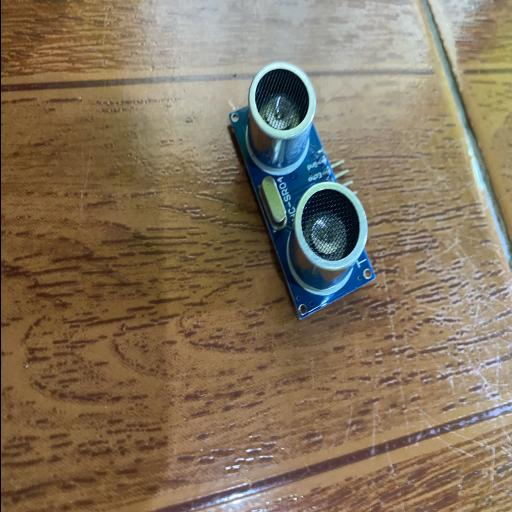Ultrasonic Sensor: (227, 61, 377, 321)
